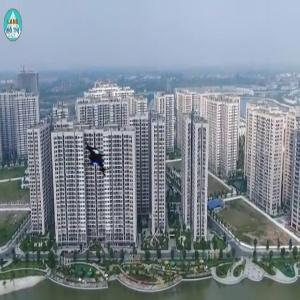drone: (71, 137, 116, 182)
